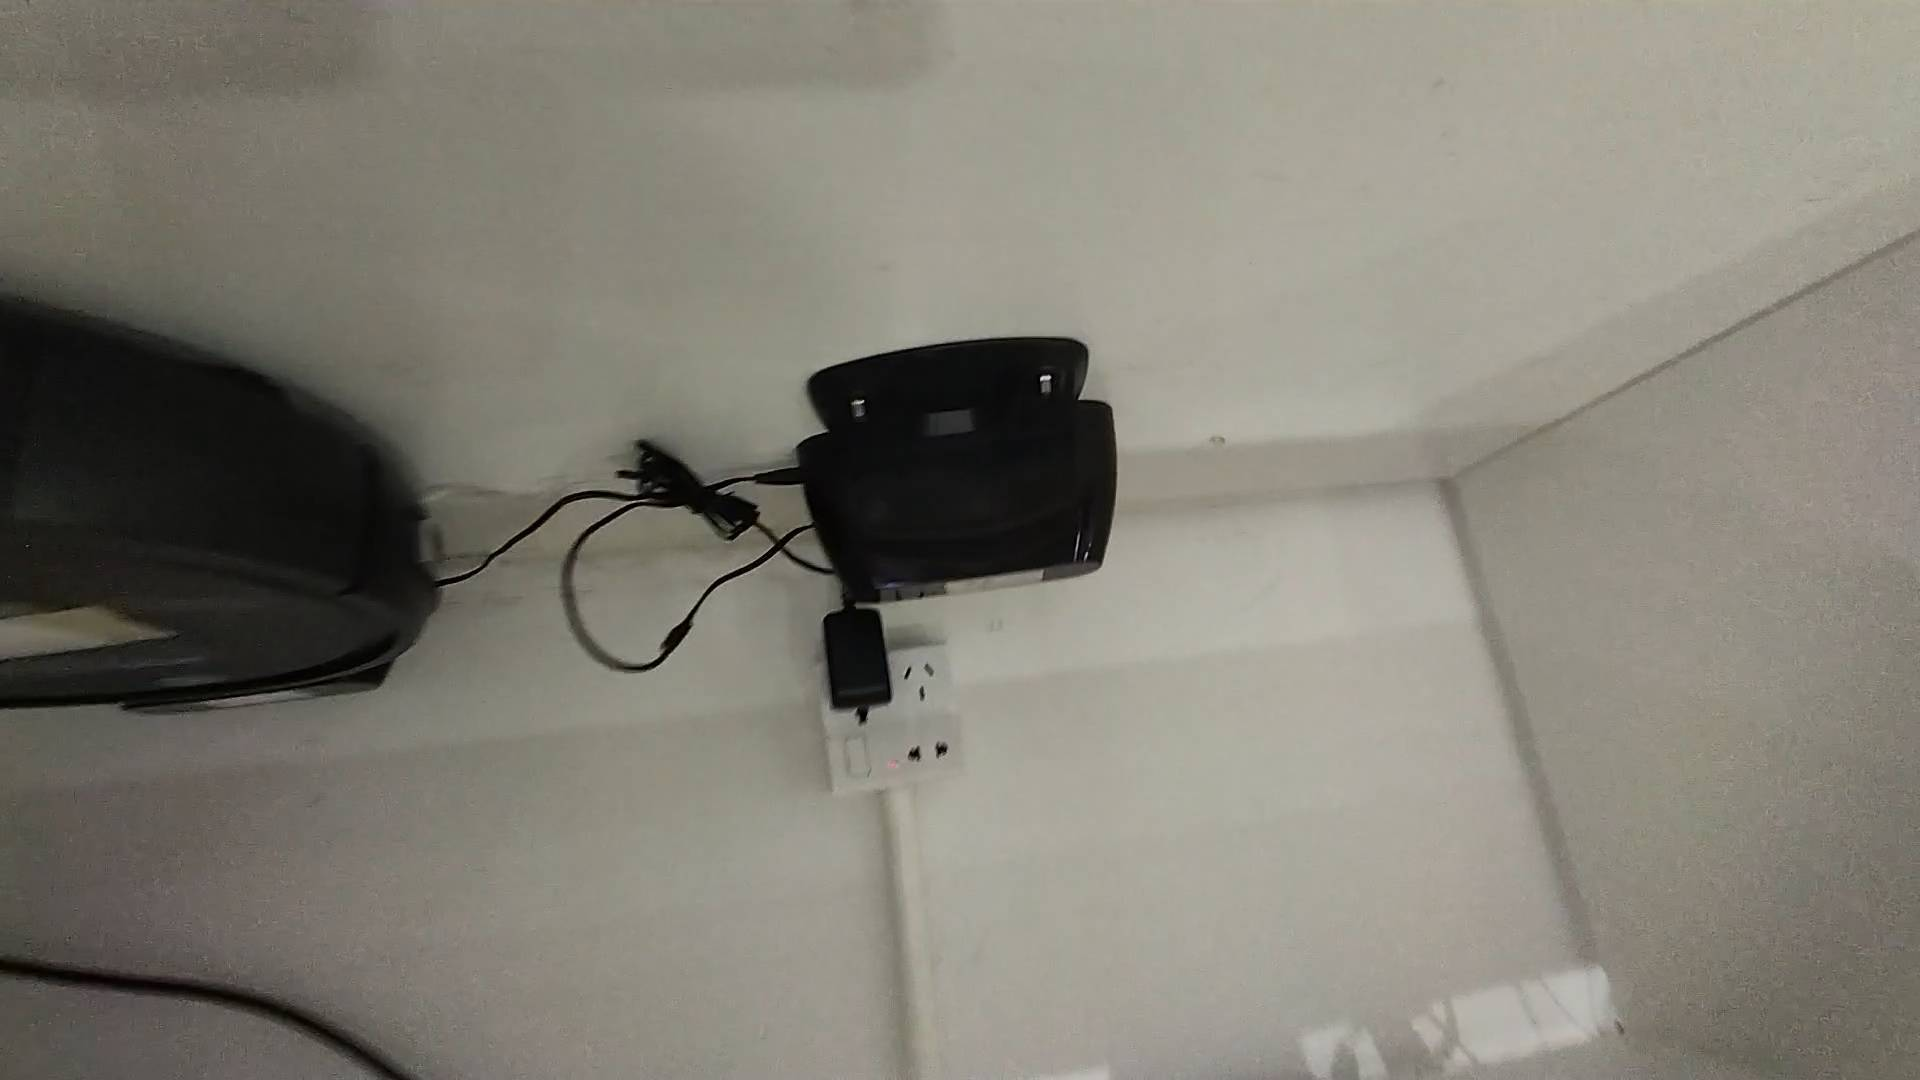recharge seat: (794, 332, 1117, 604)
